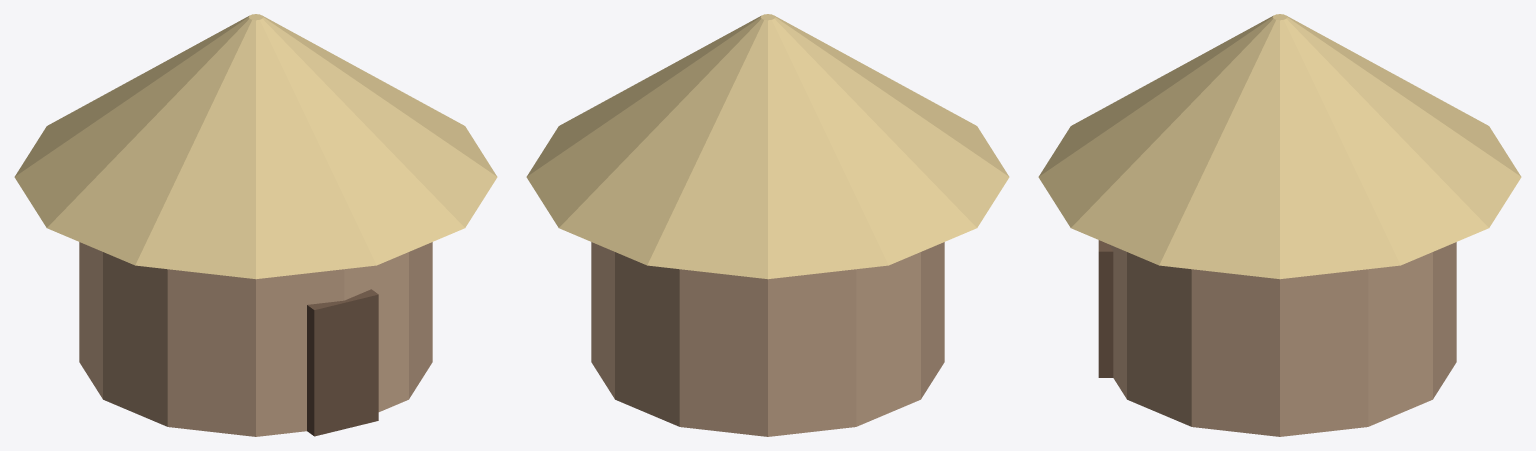
File: hut.glb
The picture shows the model from 3 angles, left to right: view 1: azimuth 30°, elevation 25°; view 2: azimuth 150°, elevation 25°; view 3: azimuth 270°, elevation 25°; orthographic projection.
Visible parts, largest first — view 1: r, b, d; view 2: r, b; view 3: r, b, d.
Part boxes in pixels (bbox=[...]): r: bbox=[14, 14, 497, 279]; b: bbox=[79, 242, 432, 436]; d: bbox=[307, 289, 378, 436]; r: bbox=[526, 14, 1009, 279]; b: bbox=[591, 242, 944, 436]; r: bbox=[1038, 14, 1521, 279]; b: bbox=[1109, 242, 1456, 436]; d: bbox=[1098, 240, 1113, 377].
Size of the model in its own units: 5.2 by 4.1 by 5.2.
